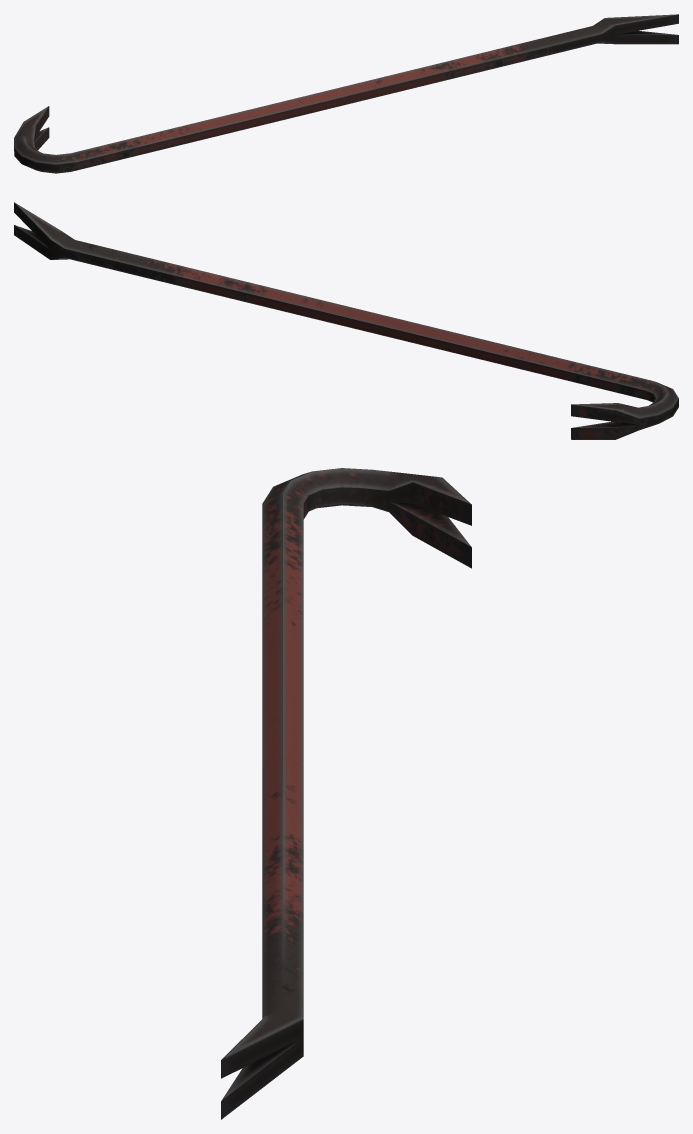
File: CrowbarV2.fbx
The picture shows the model from 3 angles, top to bottom: view 1: azimuth 30°, elevation 25°; view 2: azimuth 150°, elevation 25°; view 3: azimuth 270°, elevation 25°; orthographic projection. The views are drawn at different scales.
Visible parts, largest first — view 1: Crowbar; view 2: Crowbar; view 3: Crowbar.
Boxes of the visible parts, x1,y1,x2,y2 form: Crowbar: (14,14,678,173); Crowbar: (14,202,678,439); Crowbar: (221,468,471,1119).
Size of the model in its own units: 29.75 by 172 by 8.4.
Materials: 1 (1 with a texture image).
